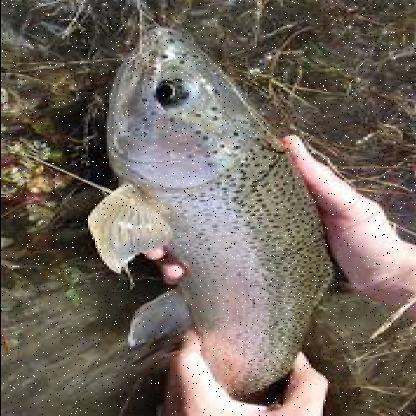fish: (85, 24, 339, 414)
